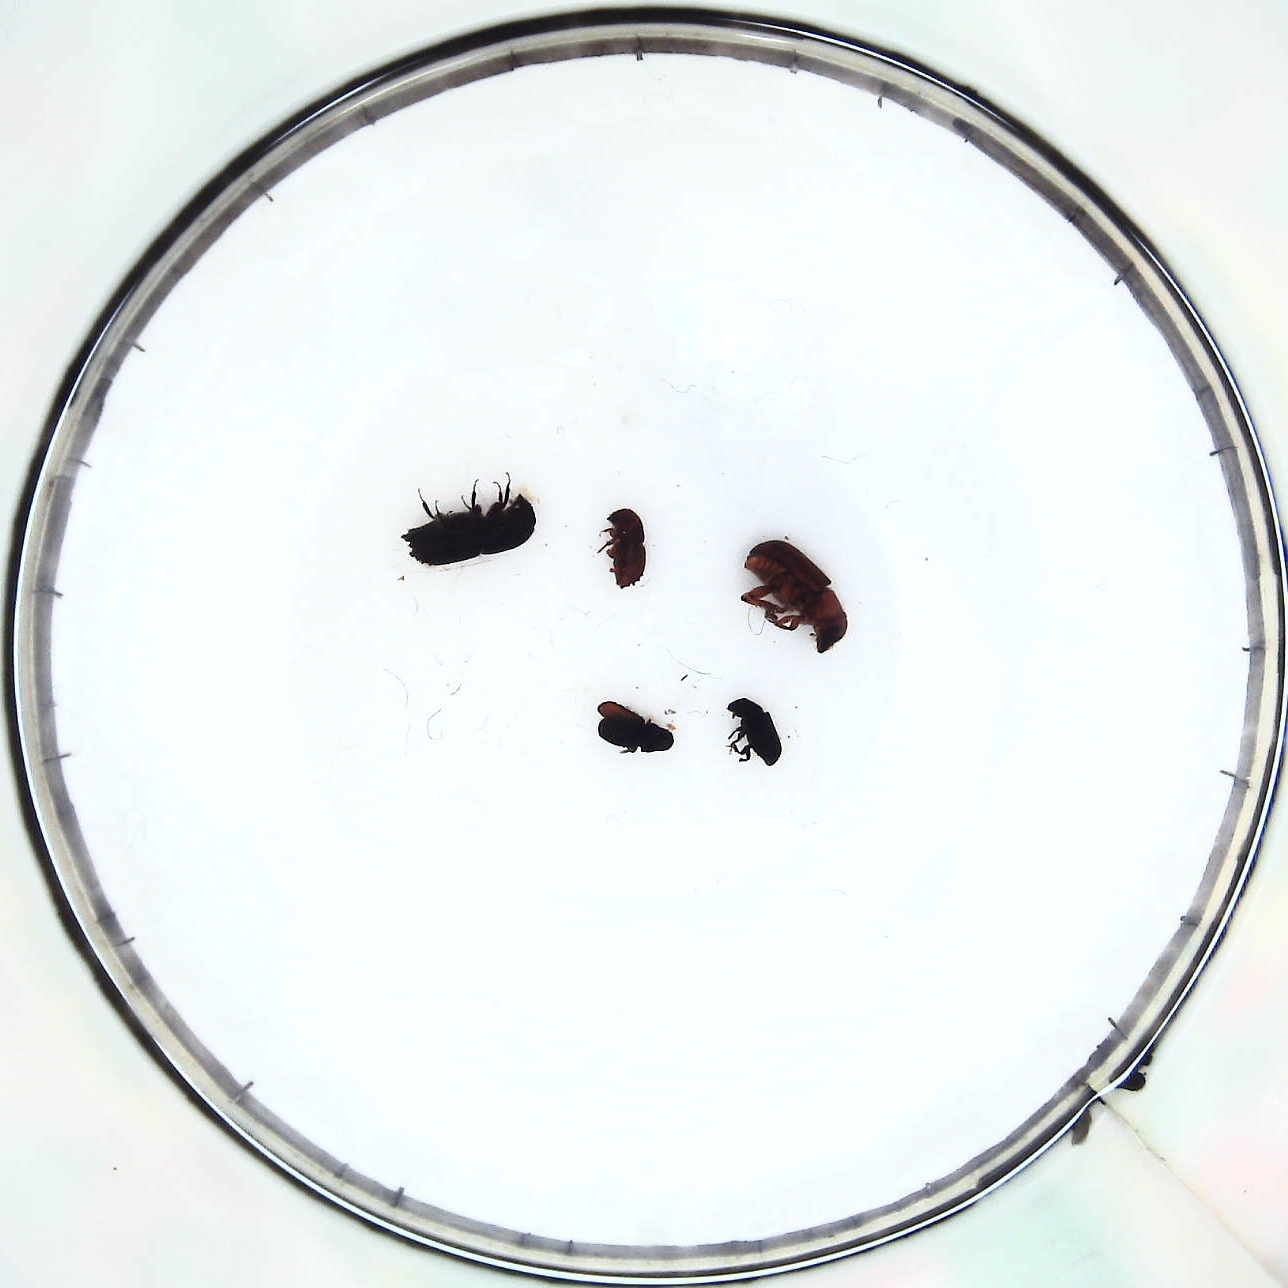Boerner: (407, 495, 538, 567)
Leconte: (740, 543, 848, 653)
Linnaeus: (602, 507, 648, 589)
armandi: (596, 695, 672, 758)
coleoptera: (727, 701, 781, 765)
